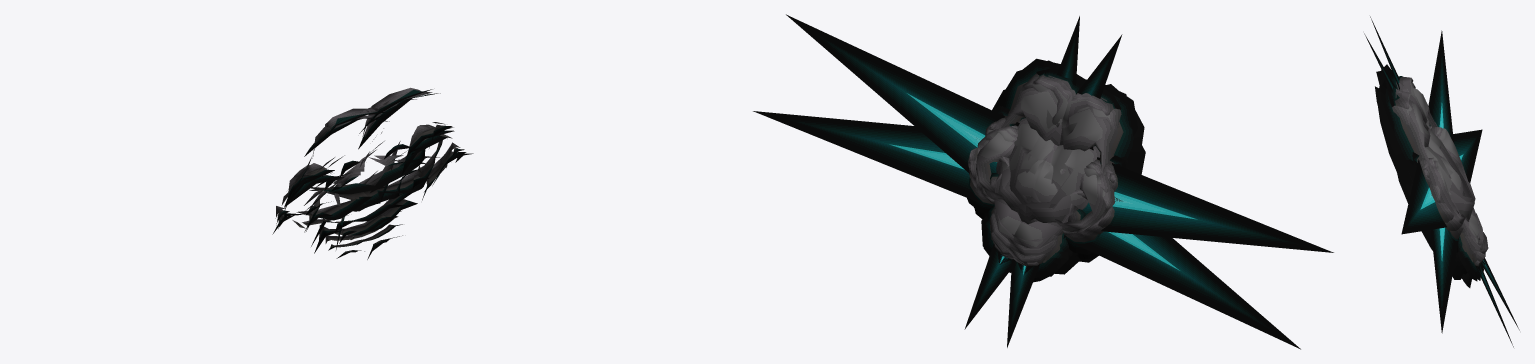
The model's file is batBoardTeleportMenu.glb.
3 renders of one model, left to right at view 1: azimuth 30°, elevation 25°; view 2: azimuth 150°, elevation 25°; view 3: azimuth 270°, elevation 25°, orthographic. The views are drawn at different scales.
Visible parts, largest first — view 1: poofGlow07 (×2), poofGlow09 (×2), poof09 (×2), poof06, poof07; view 2: poofGlow02 (×2), poof07 (×2), poof06 (×2), poofGlow03 (×2), poof09 (×2), poof08 (×2), poof02 (×2), poofGlow08 (×2), poofGlow07 (×2), poof04 (×2), poof11 (×2), poof05 (×2); view 3: poofGlow02 (×2), poof07 (×2), poof09 (×2), poofGlow07 (×2), poof06 (×2), poofGlow03 (×2), poof08 (×2), poof11 (×2), poofGlow10 (×2), poofGlow06, poofGlow08, poof02 (×2) (+4 smaller).
Part boxes in pixels (bbox=[...]): poofGlow07 (×2): bbox=[285, 93, 449, 249]; poofGlow09 (×2): bbox=[272, 89, 466, 253]; poof09 (×2): bbox=[278, 87, 453, 239]; poof06: bbox=[304, 141, 400, 205]; poof07: bbox=[306, 134, 452, 213]; poofGlow02 (×2): bbox=[753, 14, 1333, 349]; poof07 (×2): bbox=[976, 82, 1123, 248]; poof06 (×2): bbox=[996, 118, 1100, 224]; poofGlow03 (×2): bbox=[964, 16, 1122, 347]; poof09 (×2): bbox=[969, 74, 1113, 260]; poof08 (×2): bbox=[970, 73, 1121, 244]; poof02 (×2): bbox=[889, 93, 1197, 270]; poofGlow08 (×2): bbox=[967, 58, 1137, 255]; poofGlow07 (×2): bbox=[974, 70, 1144, 273]; poof04 (×2): bbox=[1015, 150, 1066, 202]; poof11 (×2): bbox=[968, 88, 1117, 265]; poof05 (×2): bbox=[1020, 136, 1072, 202]; poofGlow02 (×2): bbox=[1401, 30, 1485, 333]; poof07 (×2): bbox=[1400, 88, 1481, 243]; poof09 (×2): bbox=[1395, 76, 1483, 259]; poofGlow07 (×2): bbox=[1375, 71, 1462, 278]; poof06 (×2): bbox=[1425, 130, 1475, 221]; poofGlow03 (×2): bbox=[1364, 16, 1519, 347]; poof08 (×2): bbox=[1392, 82, 1479, 243]; poof11 (×2): bbox=[1398, 88, 1488, 265]; poofGlow10 (×2): bbox=[1386, 71, 1477, 281]; poofGlow06: bbox=[1378, 107, 1460, 279]; poofGlow08: bbox=[1380, 80, 1466, 271]; poof02 (×2): bbox=[1420, 103, 1463, 260].
Size of the model in its own units: 56.36 by 25.93 by 12.29.
Materials: 2 (2 with a texture image).
